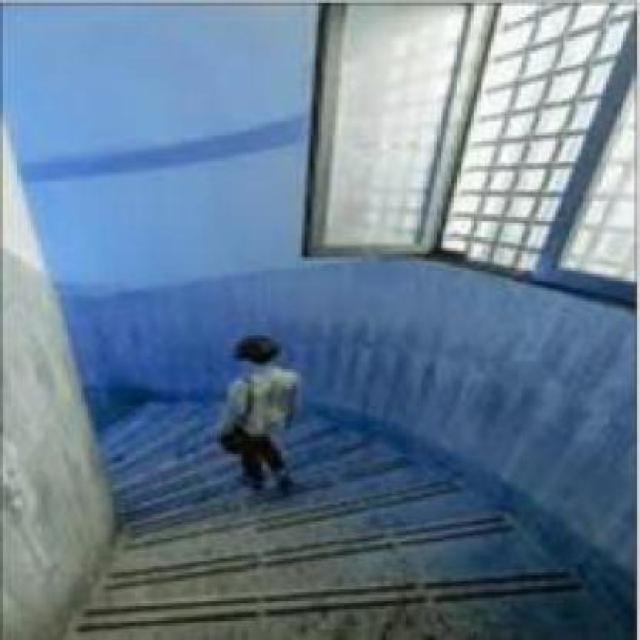stair: (132, 485, 434, 626)
